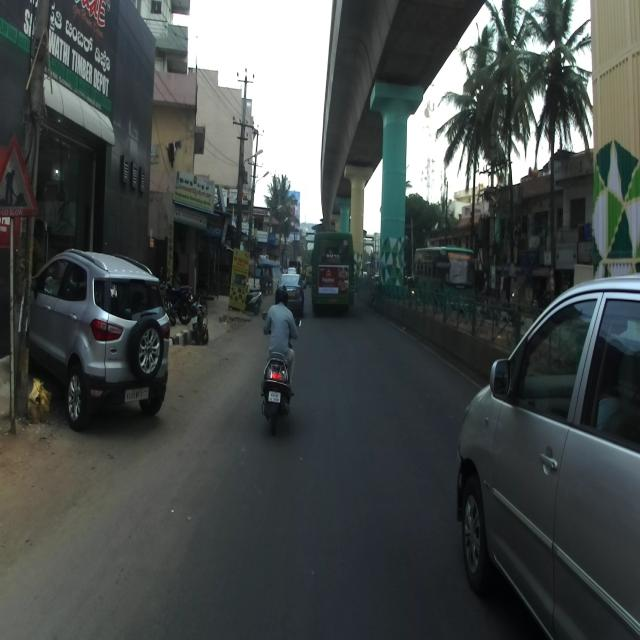bus: (311, 232, 355, 317)
car: (454, 272, 640, 640), (29, 248, 170, 432), (275, 274, 304, 312)
motorcycle: (157, 265, 194, 325)
scooter: (260, 311, 302, 436)
